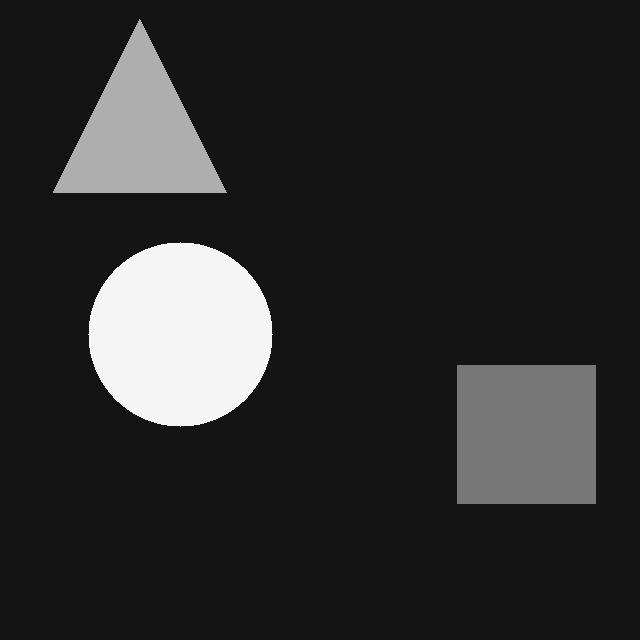circle: (88, 242, 272, 426)
square: (457, 365, 595, 503)
triangle: (53, 19, 226, 192)
